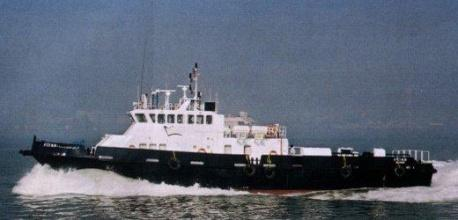otherboat: (18, 56, 439, 187)
